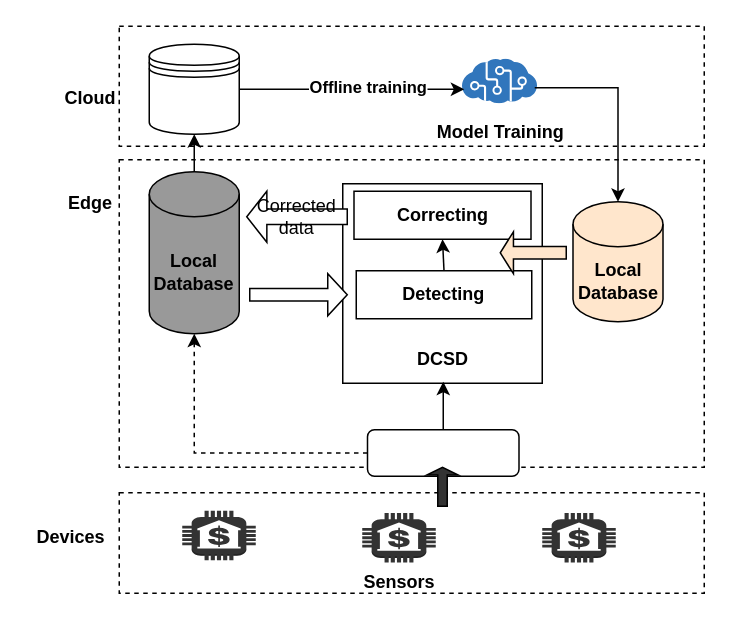
The diagram is 731 pixels wide and 632 high, and some of its shapes have lost their labels. The box of each missing label's shape, as (x1, y1, x2, y2) in pixels:
Data Center: (148, 43, 239, 134)
IoT Gateway: (366, 428, 519, 476)
Recent data: (248, 272, 347, 316)
